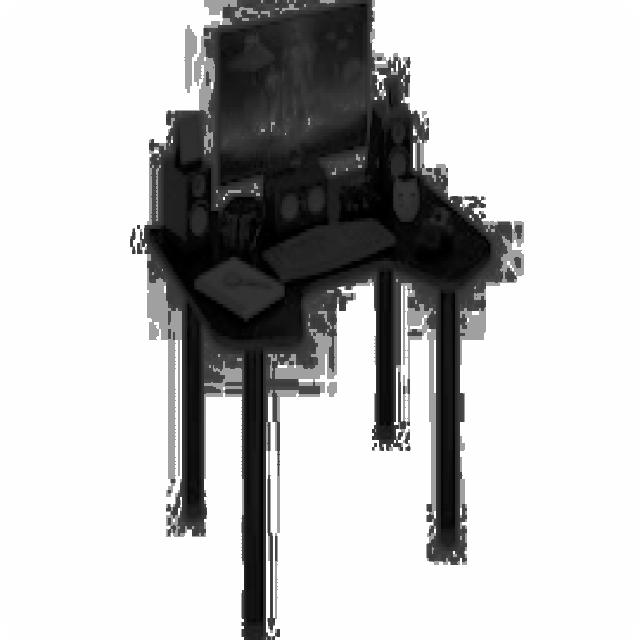table: (144, 161, 490, 636)
